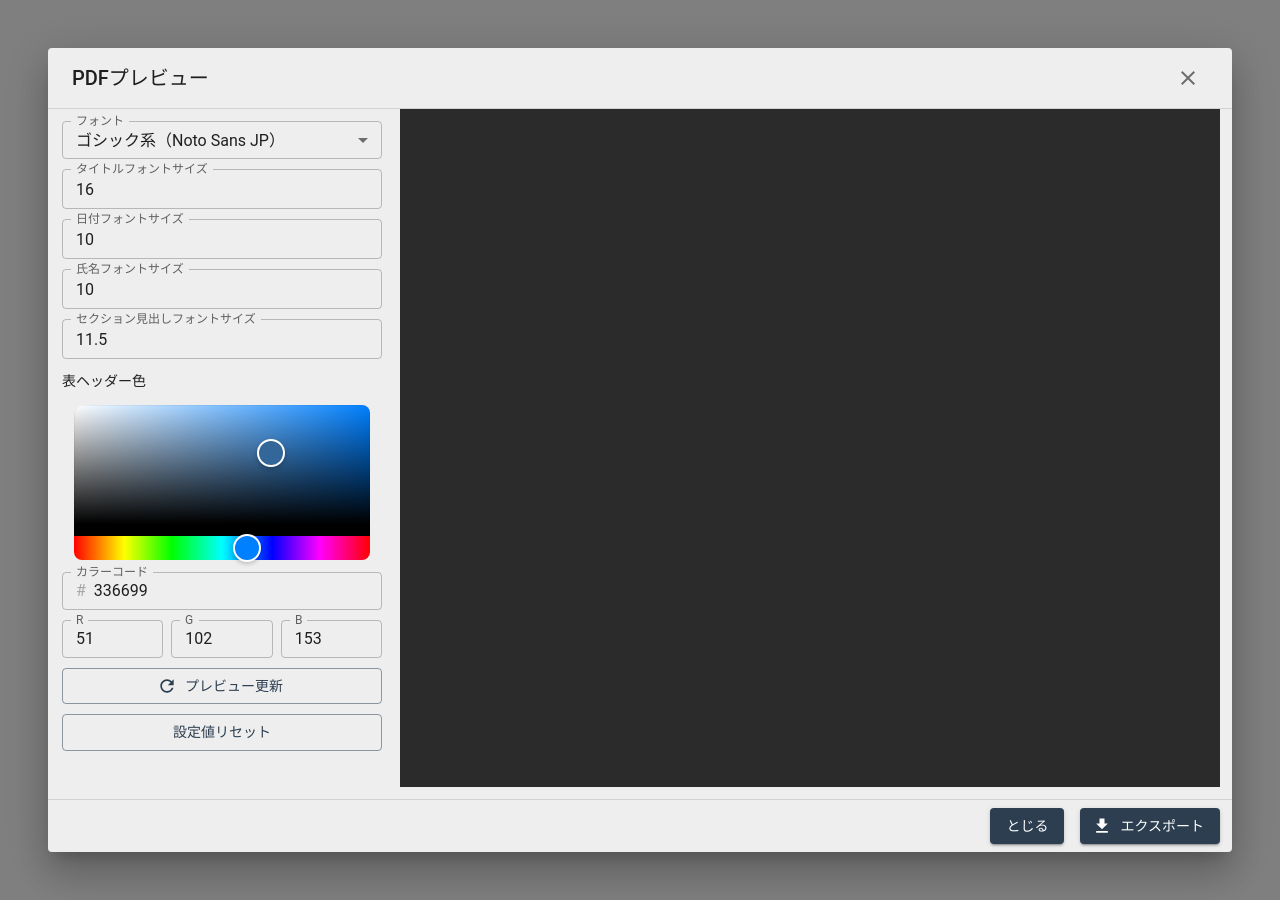
Test case: ResumePdfPreviewModal › 入力中のカラーコードがあっても、設定の色が変わったら新しい色を表示すること
Replace the text in the field labelled "カラーコード" with "12a". click: {"x": 238, "y": 591}
box: x1=94 y1=572 x2=382 y2=610
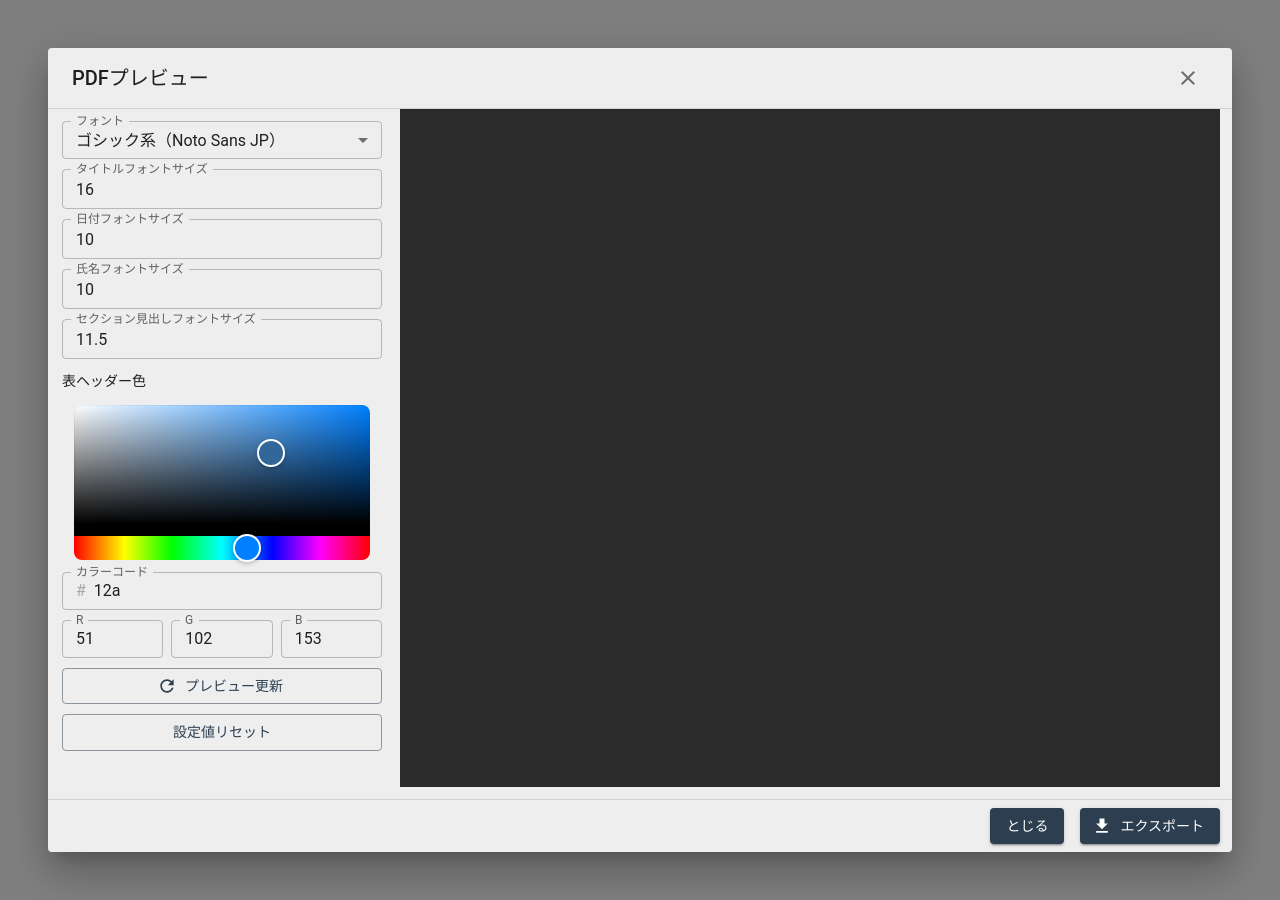
Replace the text in the number field labelled "G" with "255". click: {"x": 222, "y": 639}
box: x1=171 y1=620 x2=273 y2=658
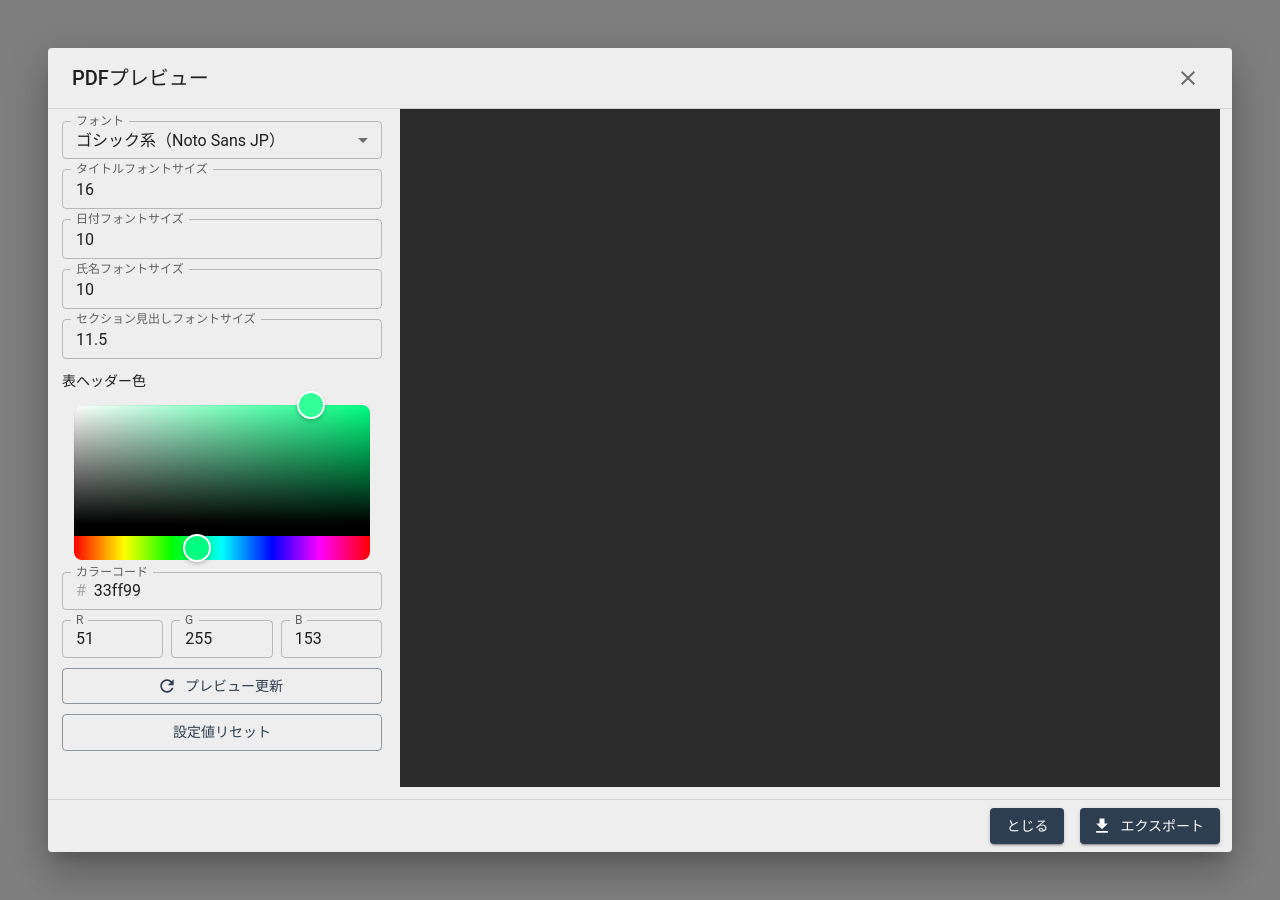
Check: the field labelled "カラーコード" holds "33ff99", box x1=94 y1=572 x2=382 y2=610
